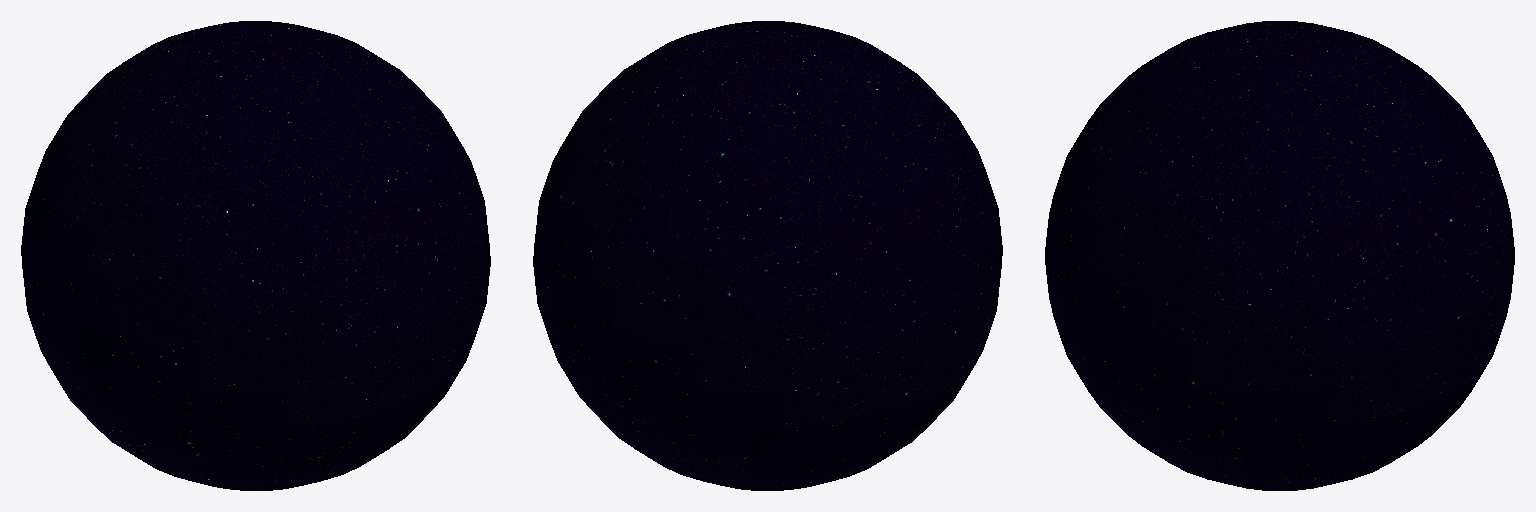
3 views of the same model, side by side, from view 1: azimuth 30°, elevation 25°; view 2: azimuth 150°, elevation 25°; view 3: azimuth 270°, elevation 25° (orthographic).
Parts seen in each view (by area): view 1: Sphere.001; view 2: Sphere.001; view 3: Sphere.001.
Part boxes in pixels (left/top/right/bottom): Sphere.001: left=21, top=21, right=490, bottom=490; Sphere.001: left=533, top=21, right=1002, bottom=490; Sphere.001: left=1045, top=21, right=1514, bottom=490.
Bounding box in the file's own units: 312 × 312 × 312.
53 materials, 5 textured.